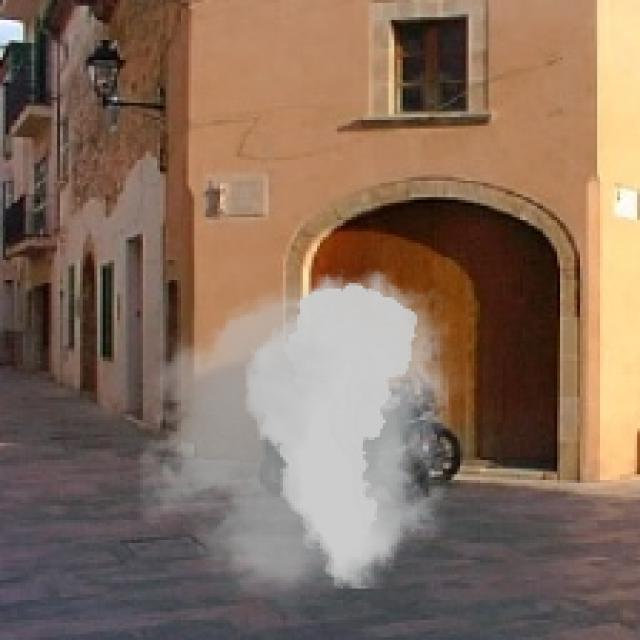Smoke: (117, 259, 477, 612)
